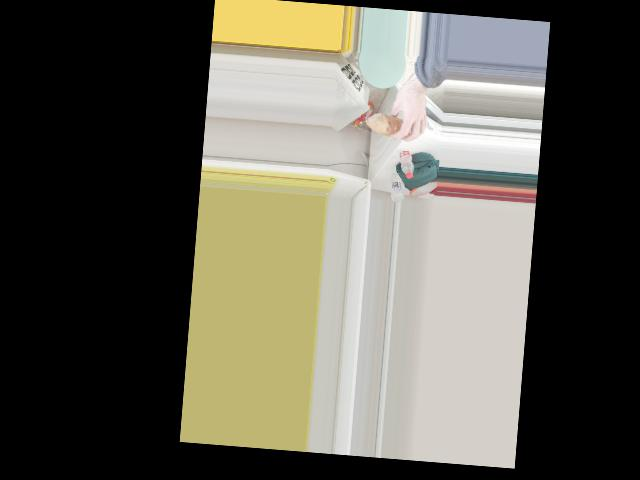sweet_potato: (374, 117, 408, 135)
